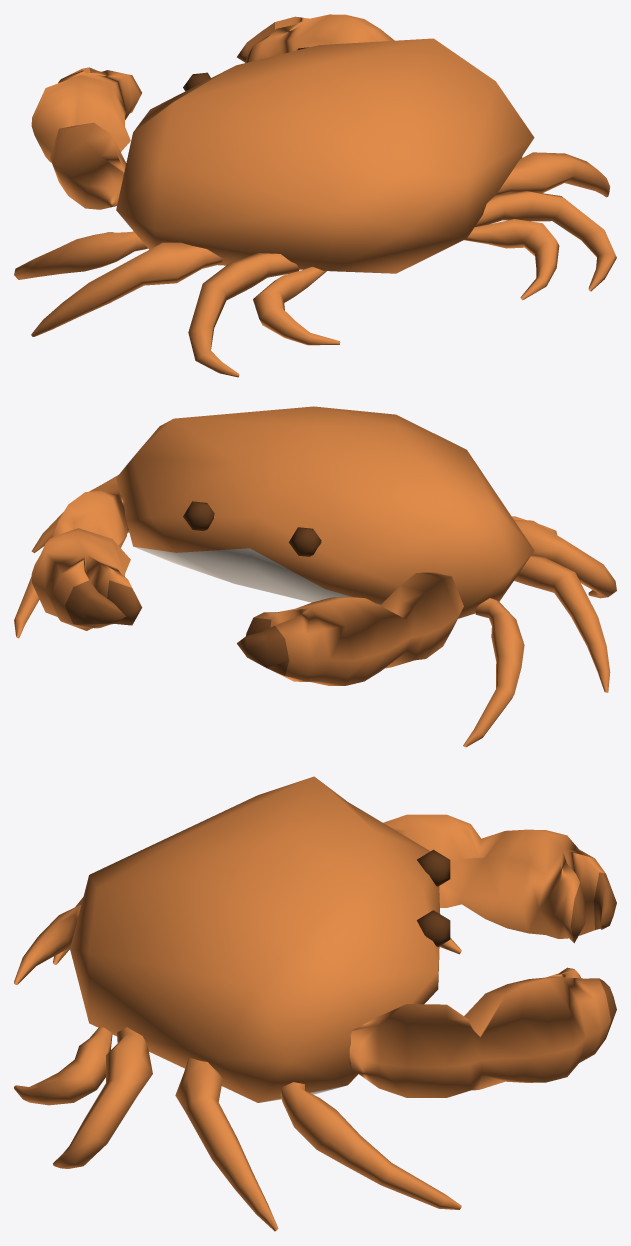
File: crab#0002.fbx
The picture shows the model from 3 angles, top to bottom: view 1: azimuth 30°, elevation 25°; view 2: azimuth 150°, elevation 25°; view 3: azimuth 270°, elevation 25°; orthographic projection. The views are drawn at different scales.
Parts seen in each view (by area): view 1: Crab.1; view 2: Crab.1; view 3: Crab.1.
Boxes of the visible parts, x1,y1,x2,y2 form: Crab.1: [14, 14, 616, 377]; Crab.1: [14, 406, 616, 747]; Crab.1: [14, 776, 616, 1231].
Bounding box in the file's own units: 77952 × 27345 × 60191.
